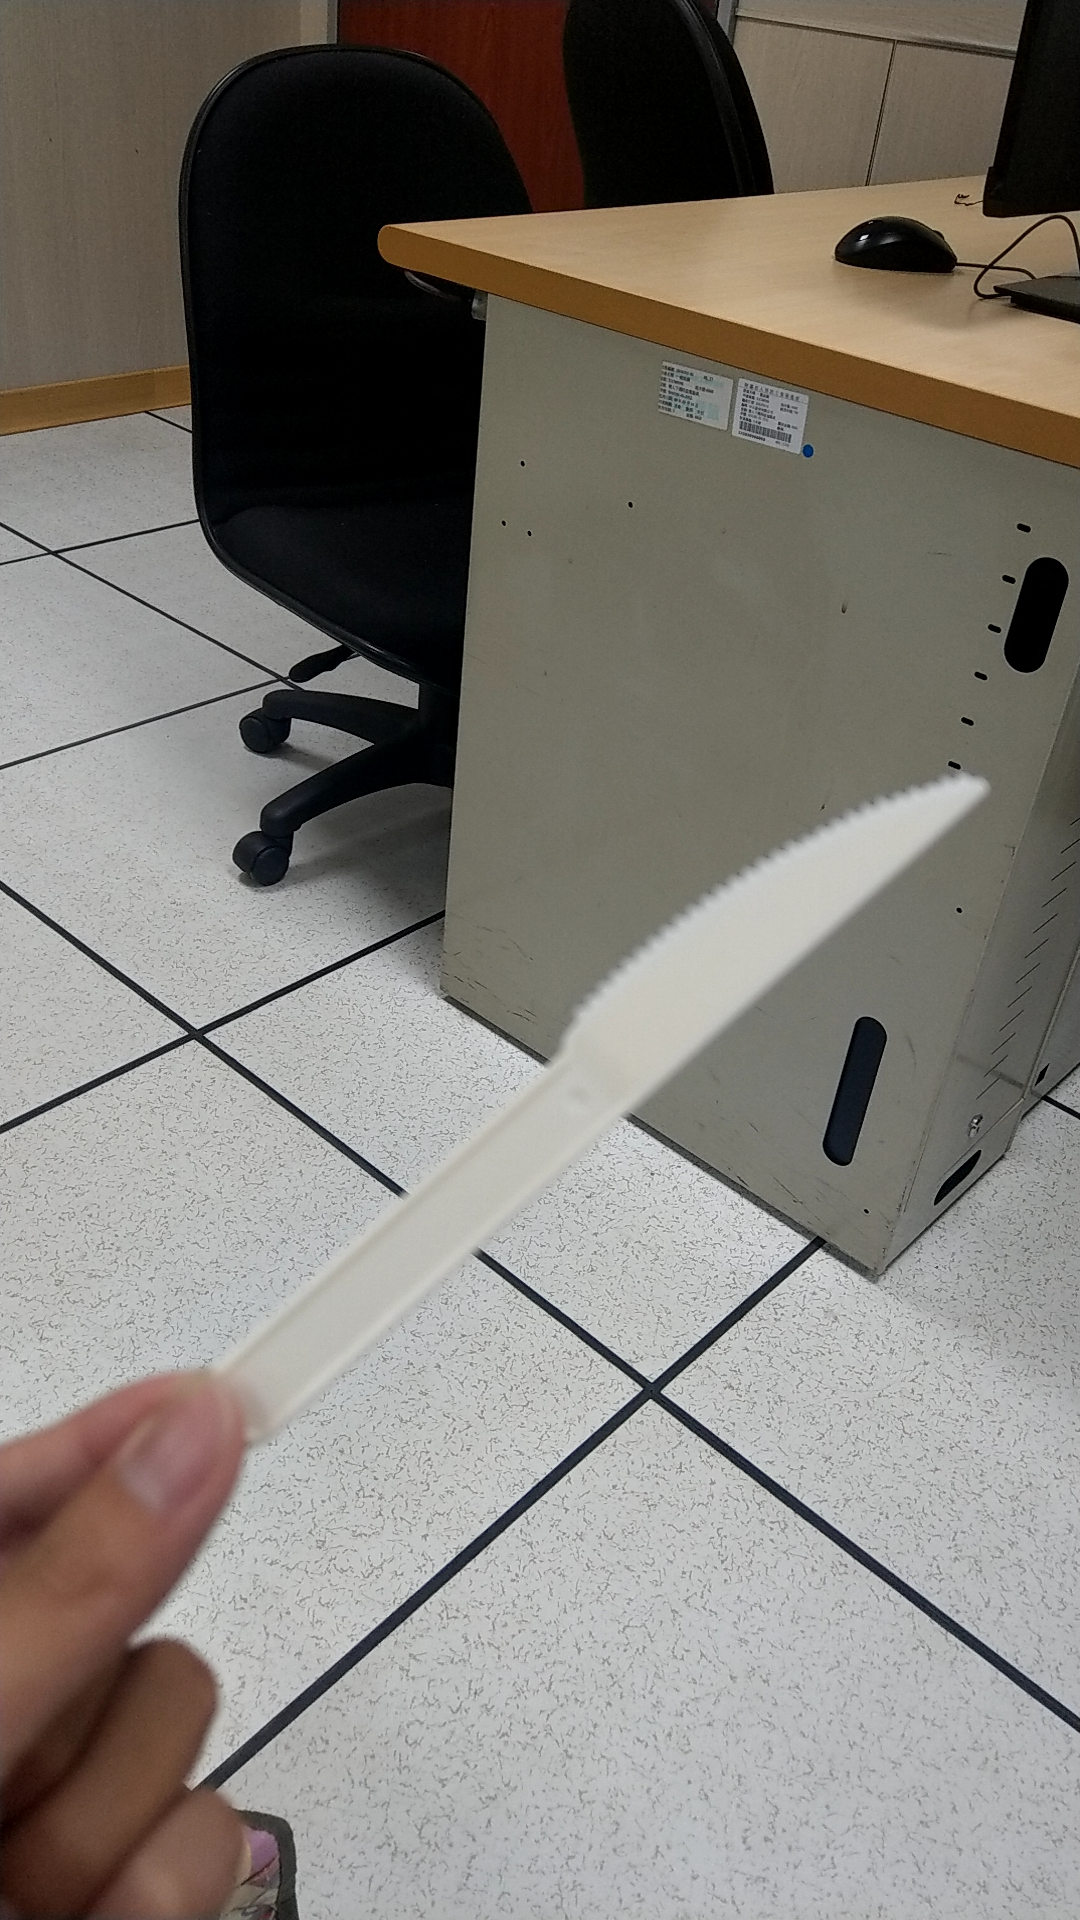knife: (225, 757, 993, 1393)
